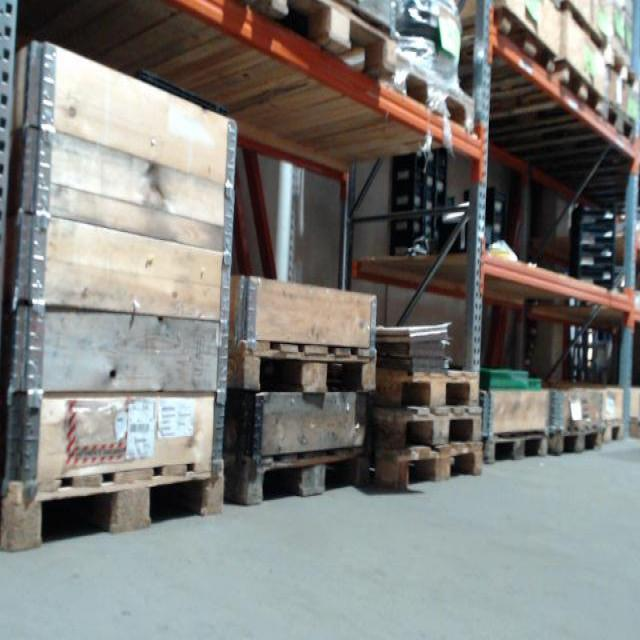pallet: (2, 443, 231, 555), (226, 1, 401, 100), (446, 1, 552, 110), (234, 443, 371, 505), (220, 340, 378, 392), (389, 53, 476, 134), (380, 442, 480, 493), (551, 58, 604, 133), (381, 371, 480, 407), (381, 407, 480, 442), (476, 427, 553, 468), (604, 95, 636, 174), (601, 41, 638, 99), (552, 425, 603, 451), (602, 416, 621, 448)
